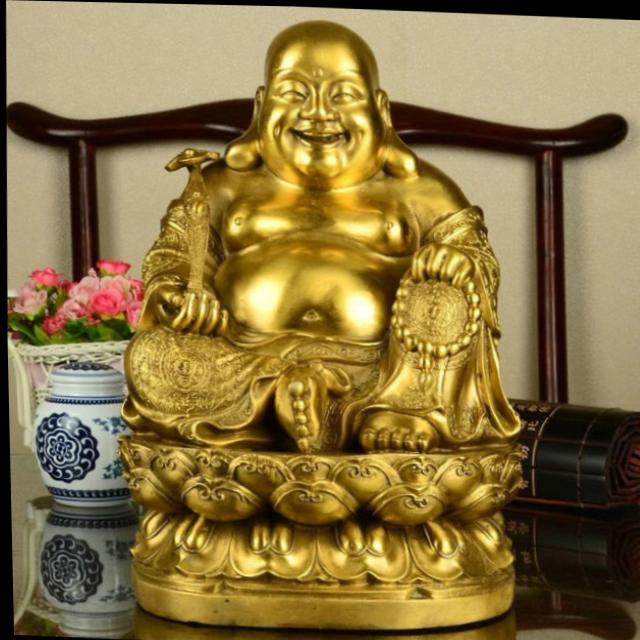Smiling Buddha: (100, 5, 526, 441)
